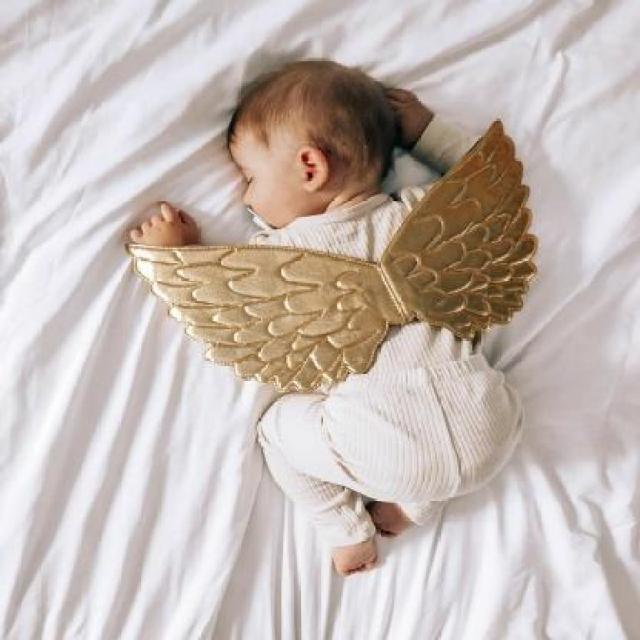baby: (122, 58, 536, 576)
